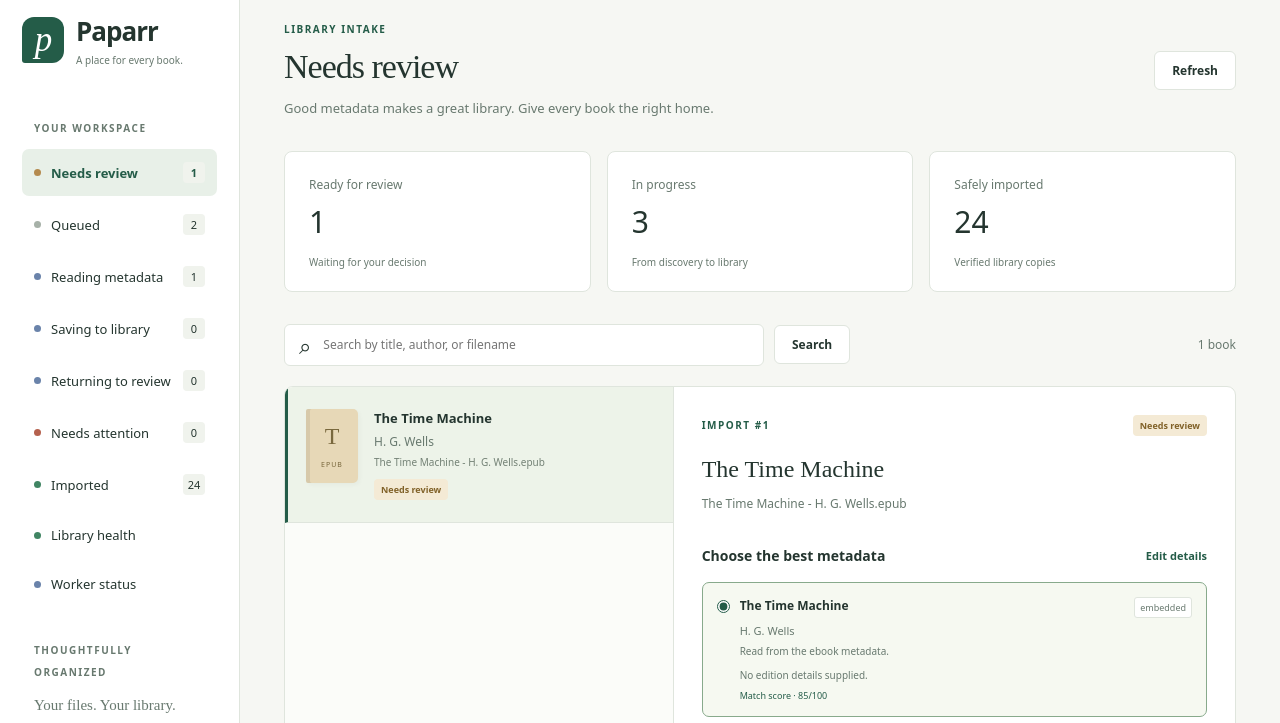
Test: Import workspace › preserves an unsaved metadata draft when refresh removes the job
Click the button "Edit details" at (1176, 555), box x1=1146 y1=543 x2=1207 y2=568
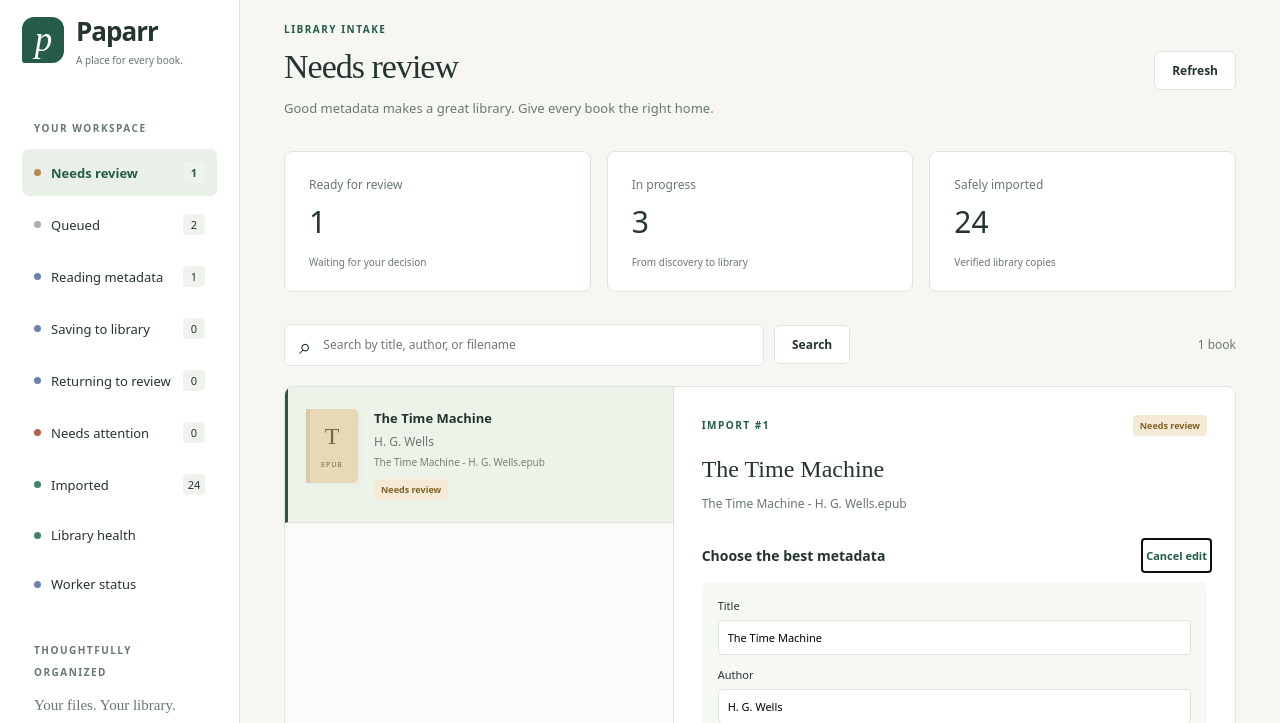
Replace the text in the field labelled "Title" with "My unsaved title" at (954, 637), box x1=718 y1=620 x2=1191 y2=655
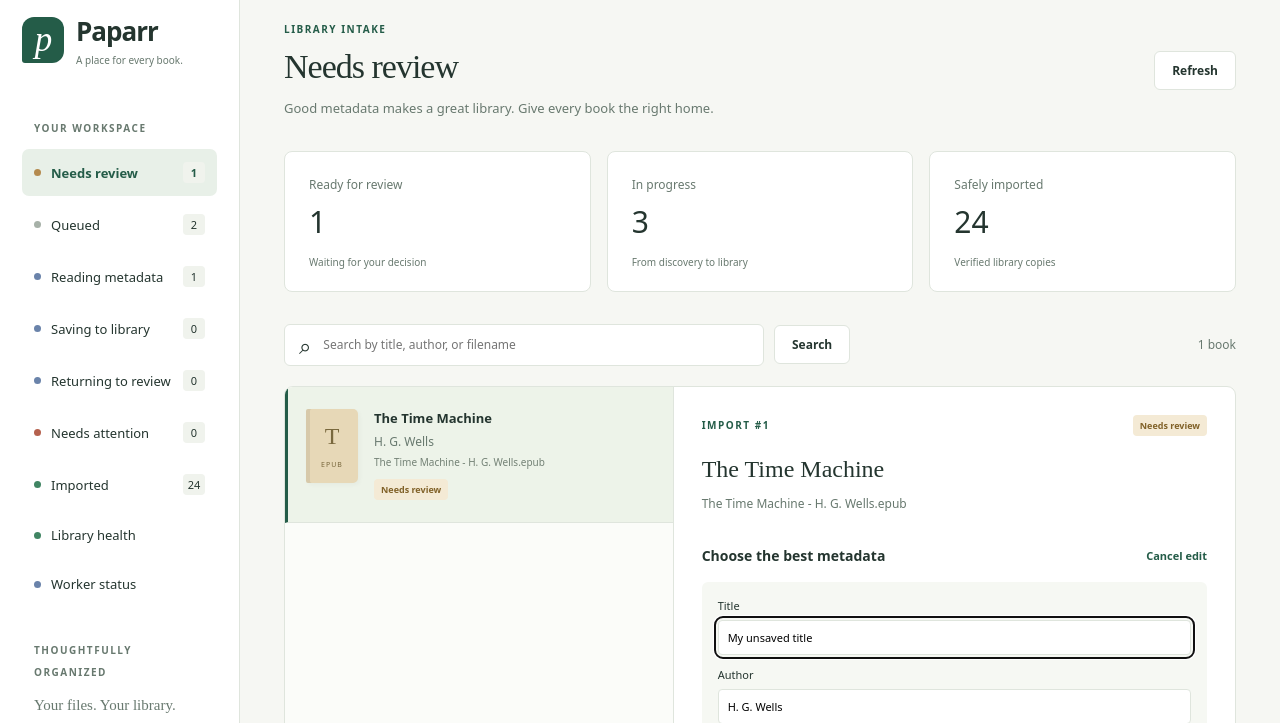
Click the button "Refresh" at (1195, 70), box x1=1154 y1=51 x2=1236 y2=90
(page scrolled)
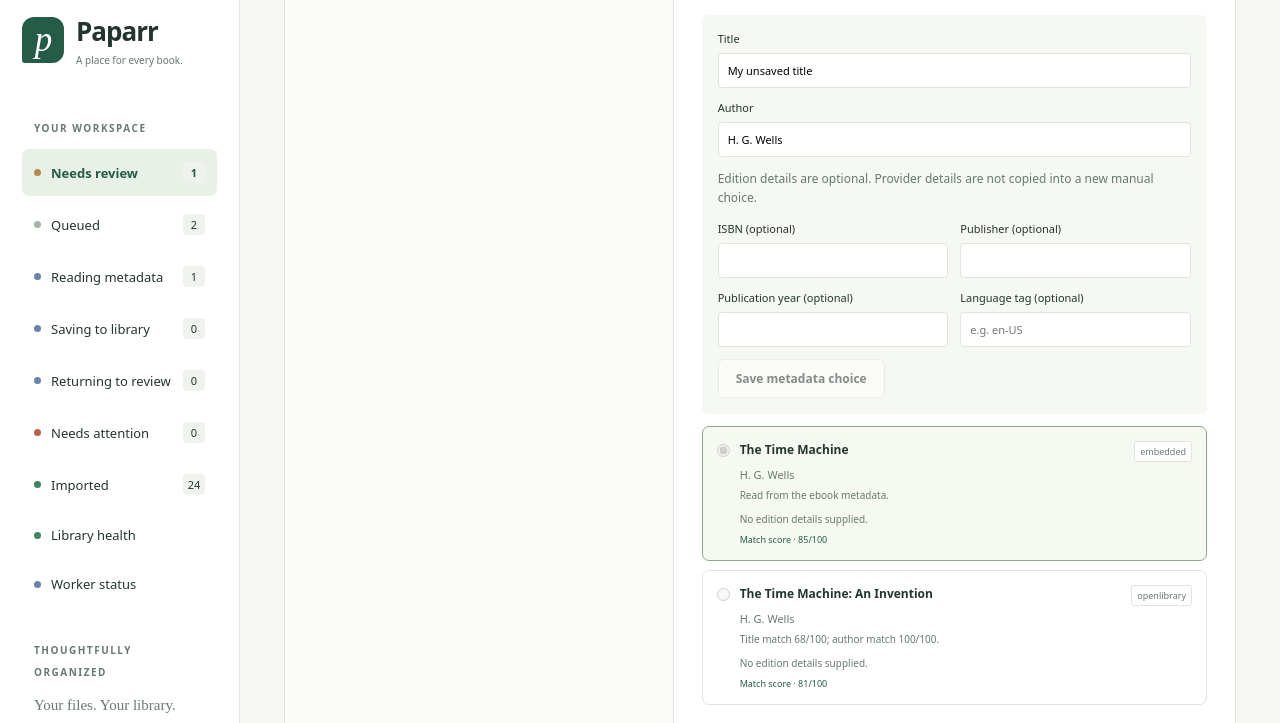
Result: the button "Save metadata choice" is disabled at x1=718 y1=359 x2=885 y2=398
